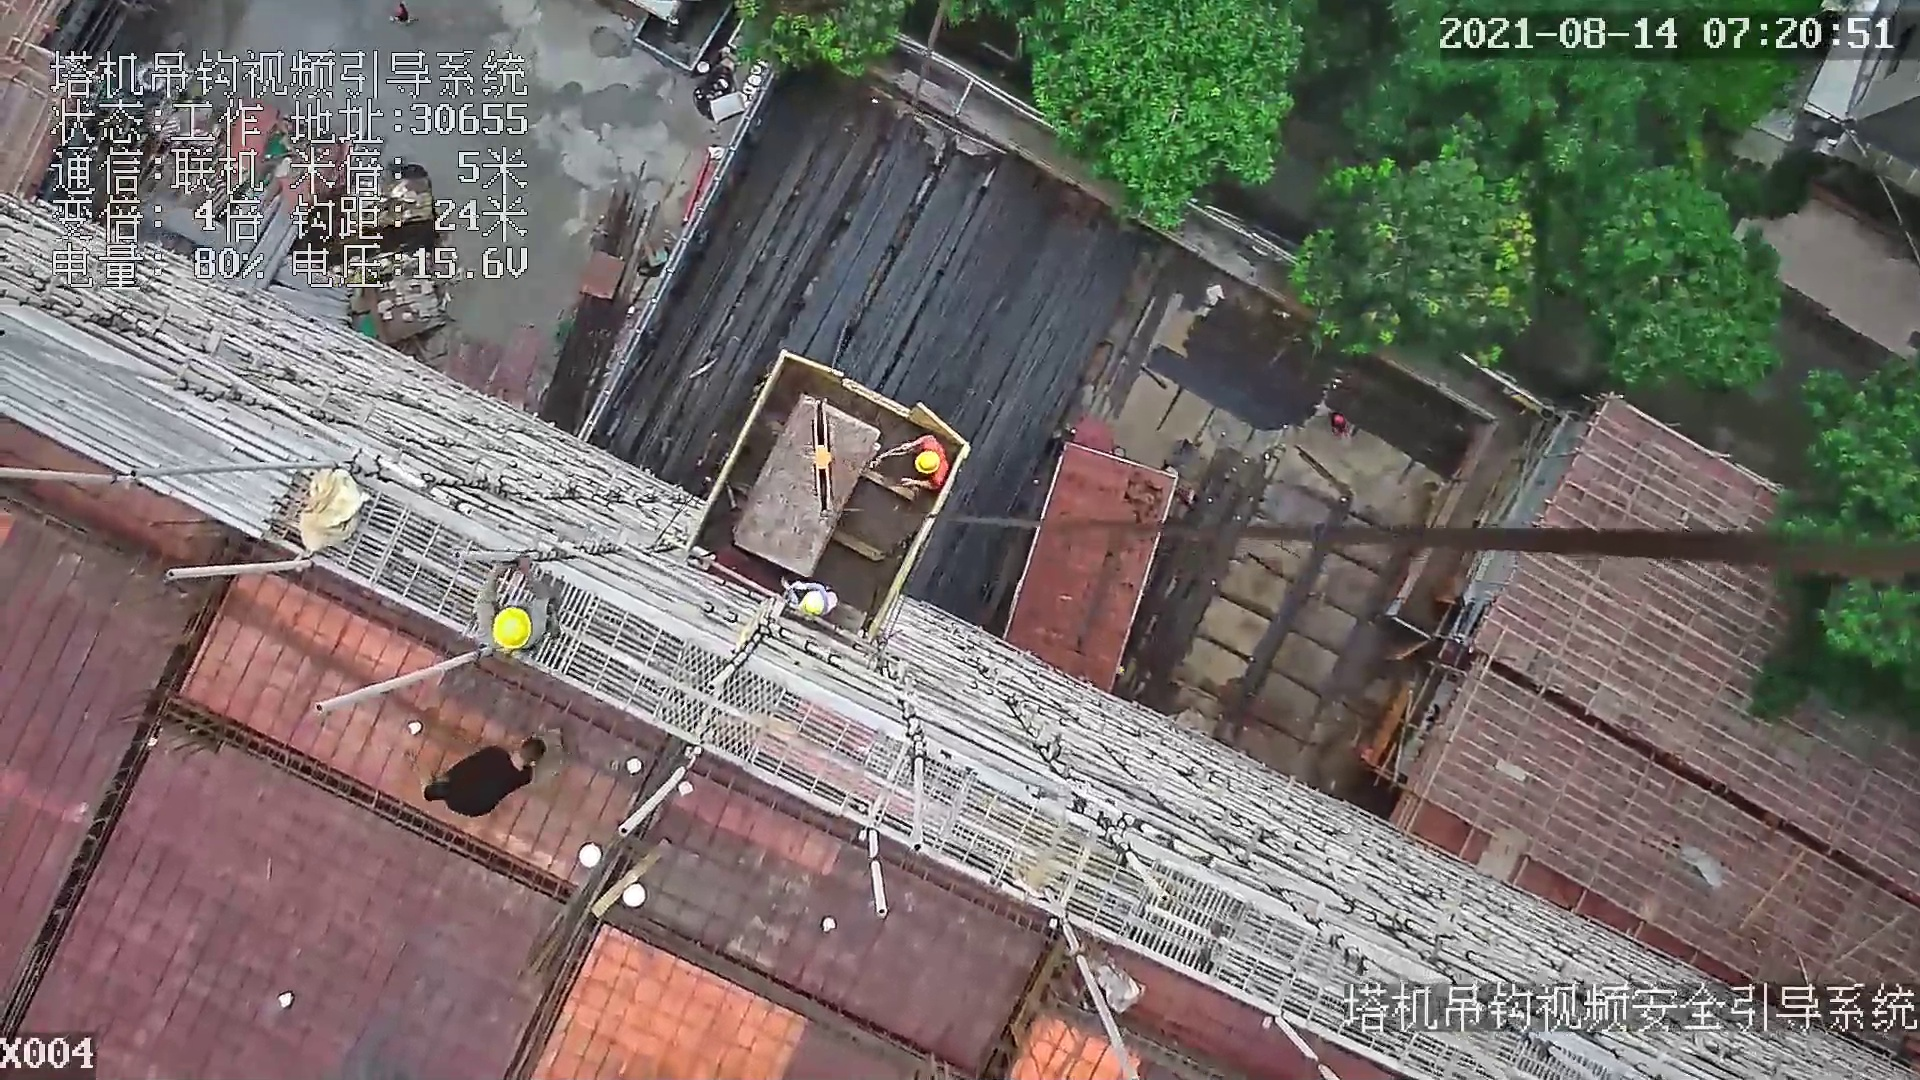helmet: (487, 604, 536, 651), (912, 447, 940, 474), (800, 592, 828, 614)
hook: (804, 397, 850, 522)
person: (413, 735, 549, 810), (468, 555, 567, 655), (891, 433, 949, 491), (777, 572, 844, 618)
